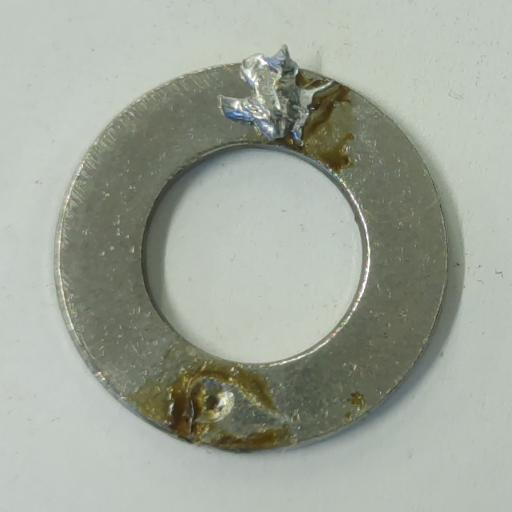excess_material: (218, 44, 334, 146), (166, 375, 235, 439)
